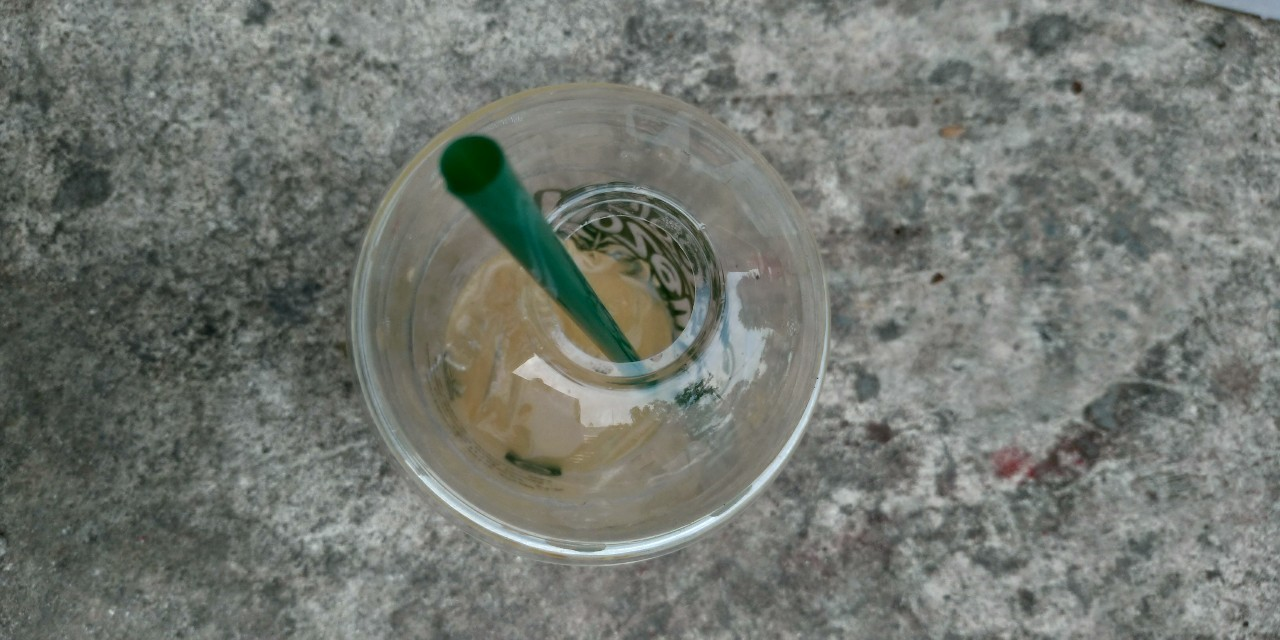PlasticCup: (344, 82, 832, 560)
